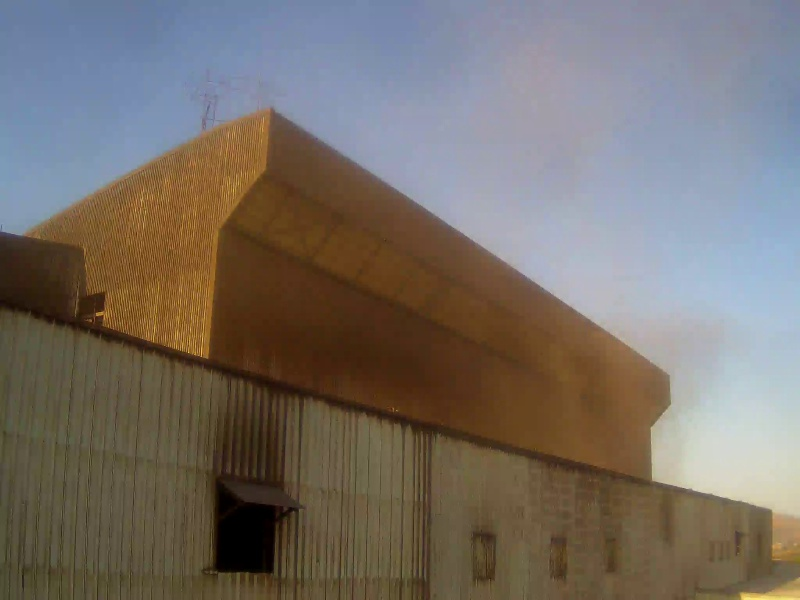Pessimo: (245, 100, 705, 513)
